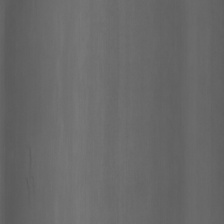water_spot: (24, 134, 38, 198)
